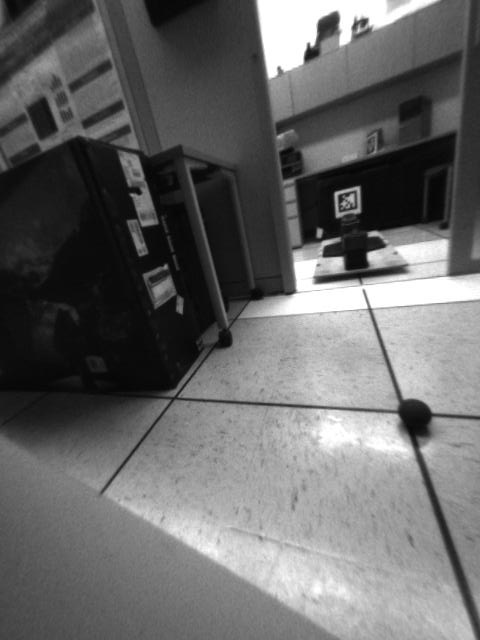dogtoy: (387, 390, 438, 442)
